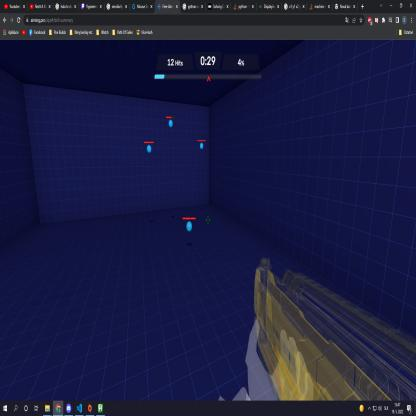sphere: (186, 220, 193, 232), (146, 144, 153, 154), (169, 119, 173, 129), (199, 142, 204, 150)
